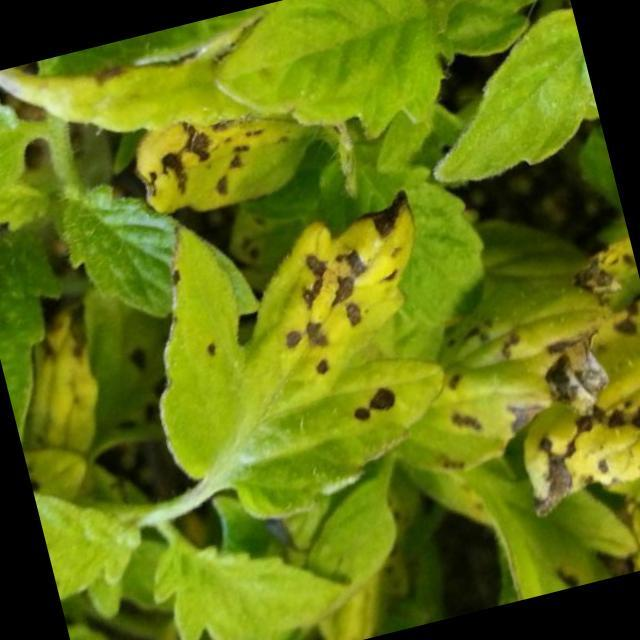Tomato leaf bacterial spot: (98, 178, 483, 551), (106, 81, 359, 242), (495, 324, 640, 523)
